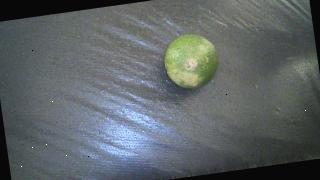DESECHO: (161, 31, 222, 92)
